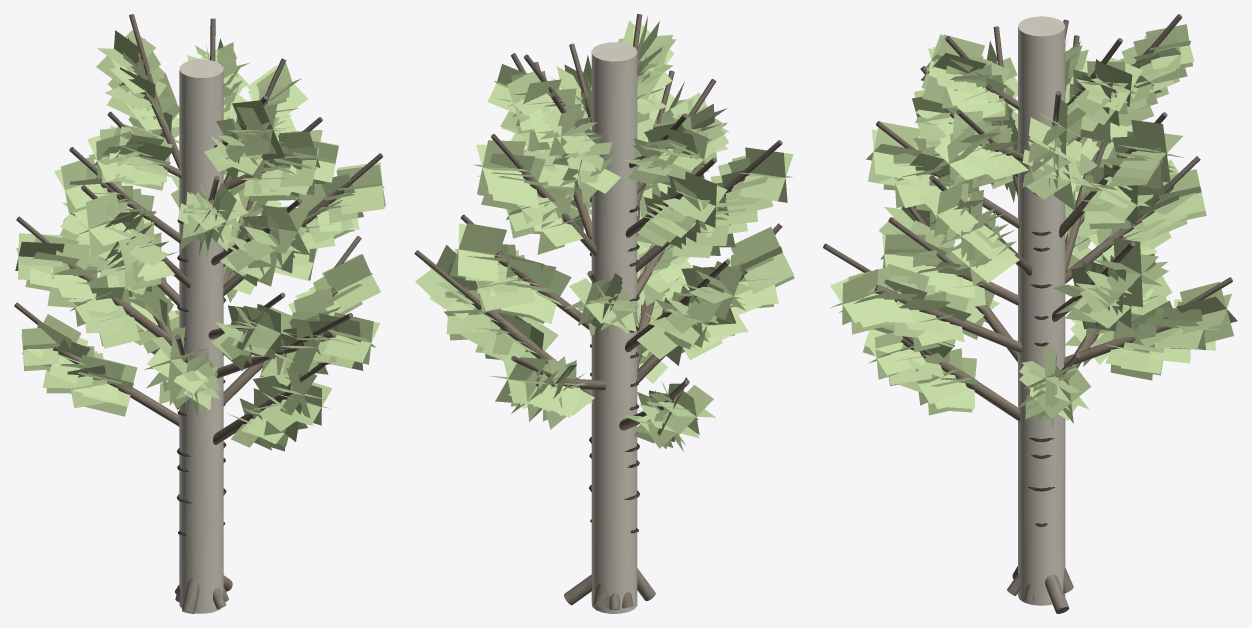
Rendered from mature-lod0.glb.
3 renders of one model, left to right at view 1: azimuth 30°, elevation 25°; view 2: azimuth 150°, elevation 25°; view 3: azimuth 270°, elevation 25°, orthographic. The views are drawn at different scales.
Parts seen in each view (by area): view 1: birch-leaf-sprays, birch-bark-branches-buried-roots-ground-blend; view 2: birch-leaf-sprays, birch-bark-branches-buried-roots-ground-blend; view 3: birch-leaf-sprays, birch-bark-branches-buried-roots-ground-blend.
Boxes of the visible parts, x1,y1,x2,y2 form: birch-leaf-sprays: (15, 30, 385, 451); birch-bark-branches-buried-roots-ground-blend: (14, 14, 383, 613); birch-leaf-sprays: (415, 16, 794, 451); birch-bark-branches-buried-roots-ground-blend: (414, 14, 782, 613); birch-leaf-sprays: (830, 24, 1237, 430); birch-bark-branches-buried-roots-ground-blend: (823, 14, 1232, 613).
Size of the model in its own units: 13.27 by 20.59 by 13.26.
